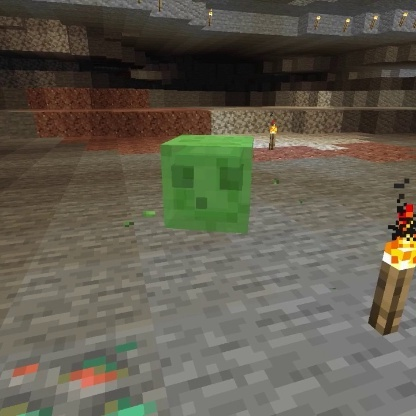slime: (158, 131, 258, 238)
